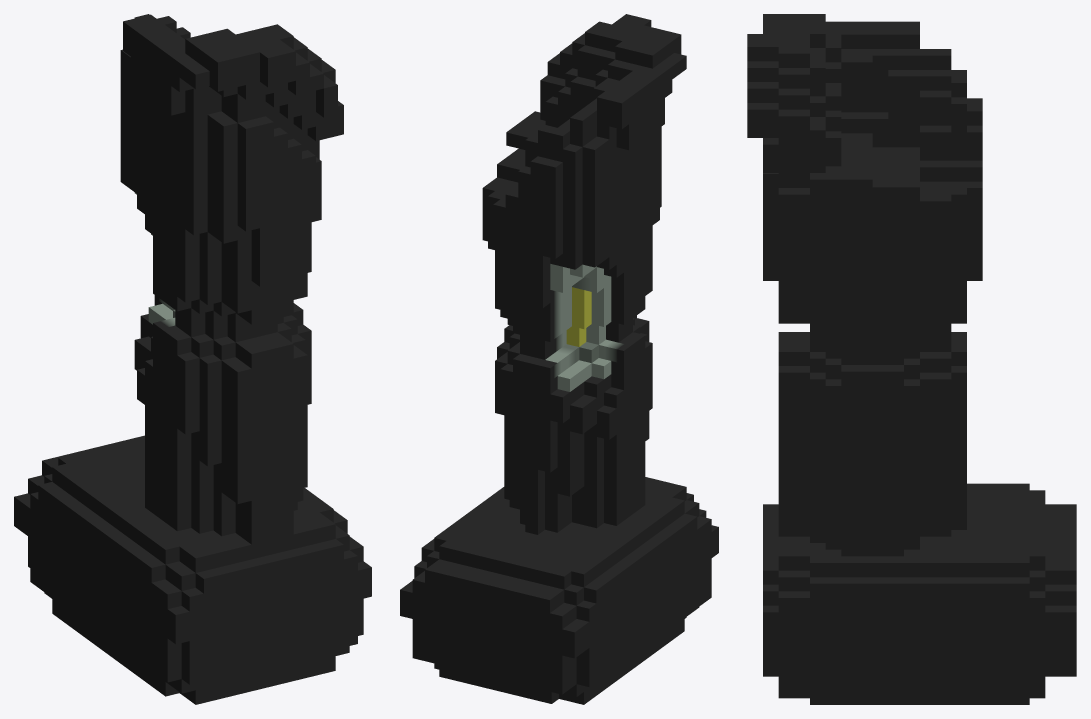
The model's file is Enemy-2-PandaRight.fbx.
The picture shows the model from 3 angles, left to right: view 1: azimuth 30°, elevation 25°; view 2: azimuth 150°, elevation 25°; view 3: azimuth 270°, elevation 25°; orthographic projection. The views are drawn at different scales.
Parts seen in each view (by area): view 1: PandaRight; view 2: PandaRight; view 3: PandaRight.
Boxes of the visible parts, box(x1,y1,x2,y2) form: PandaRight: box(14, 14, 371, 704); PandaRight: box(400, 14, 718, 704); PandaRight: box(747, 14, 1076, 704).
Size of the model in its own units: 14 by 44 by 21.
Materials: 1 (1 with a texture image).
